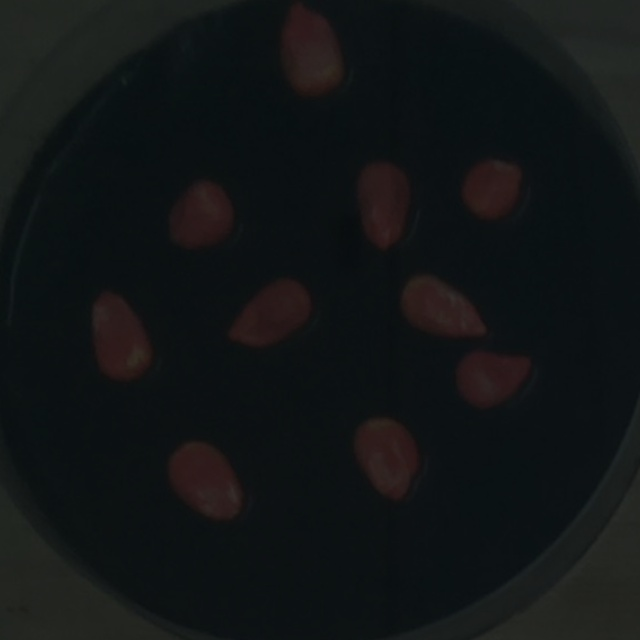Zea mays: (159, 431, 252, 529), (81, 281, 159, 392), (391, 264, 494, 347), (221, 269, 318, 357), (344, 409, 429, 508), (271, 0, 351, 103), (348, 153, 418, 259), (158, 171, 241, 259), (448, 343, 539, 417), (454, 150, 530, 227)
